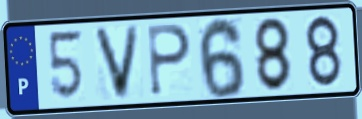5: (45, 30, 87, 105)
6: (196, 14, 248, 101)
8: (252, 15, 295, 94), (303, 12, 345, 92)
P: (146, 22, 194, 99)
V: (91, 23, 143, 102)
